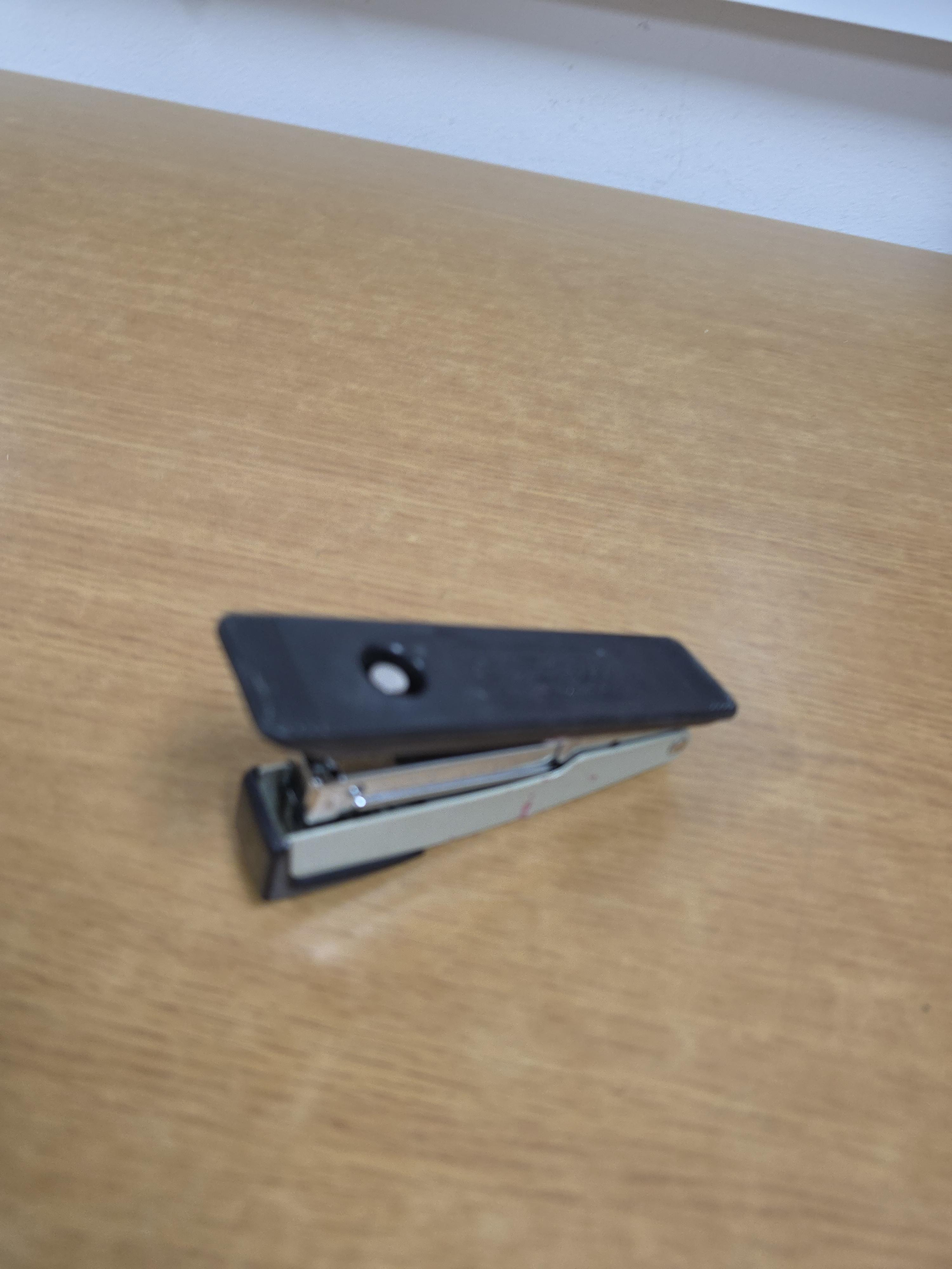stapler: (216, 612, 739, 903)
